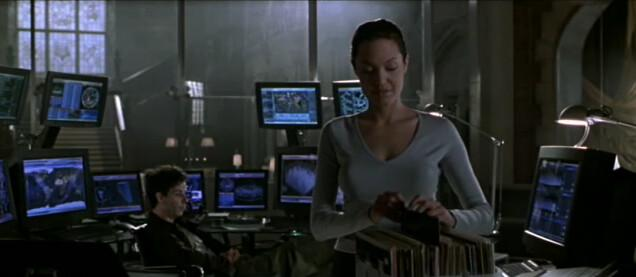computer: (522, 145, 617, 268), (12, 149, 97, 233), (275, 146, 345, 212), (40, 71, 109, 129), (255, 82, 323, 130), (142, 170, 207, 220), (215, 169, 270, 224), (91, 170, 146, 222), (1, 64, 32, 126), (1, 158, 20, 239), (333, 80, 370, 118), (183, 170, 206, 215)
